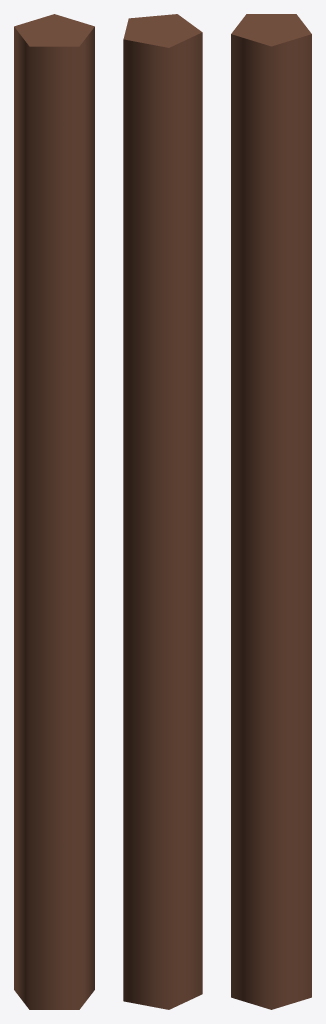
The model's file is Flag.FBX.
3 renders of one model, left to right at view 1: azimuth 90°, elevation 25°; view 2: azimuth 210°, elevation 25°; view 3: azimuth 270°, elevation 25°, orthographic.
Visible parts, largest first — view 1: Cylinder01; view 2: Cylinder01; view 3: Cylinder01.
Boxes of the visible parts, box(x1,y1,x2,y2) form: Cylinder01: box(14, 14, 94, 1009); Cylinder01: box(123, 14, 202, 1009); Cylinder01: box(231, 14, 311, 1009).
Bounding box in the file's own units: 14.58 × 202 × 15.33.
